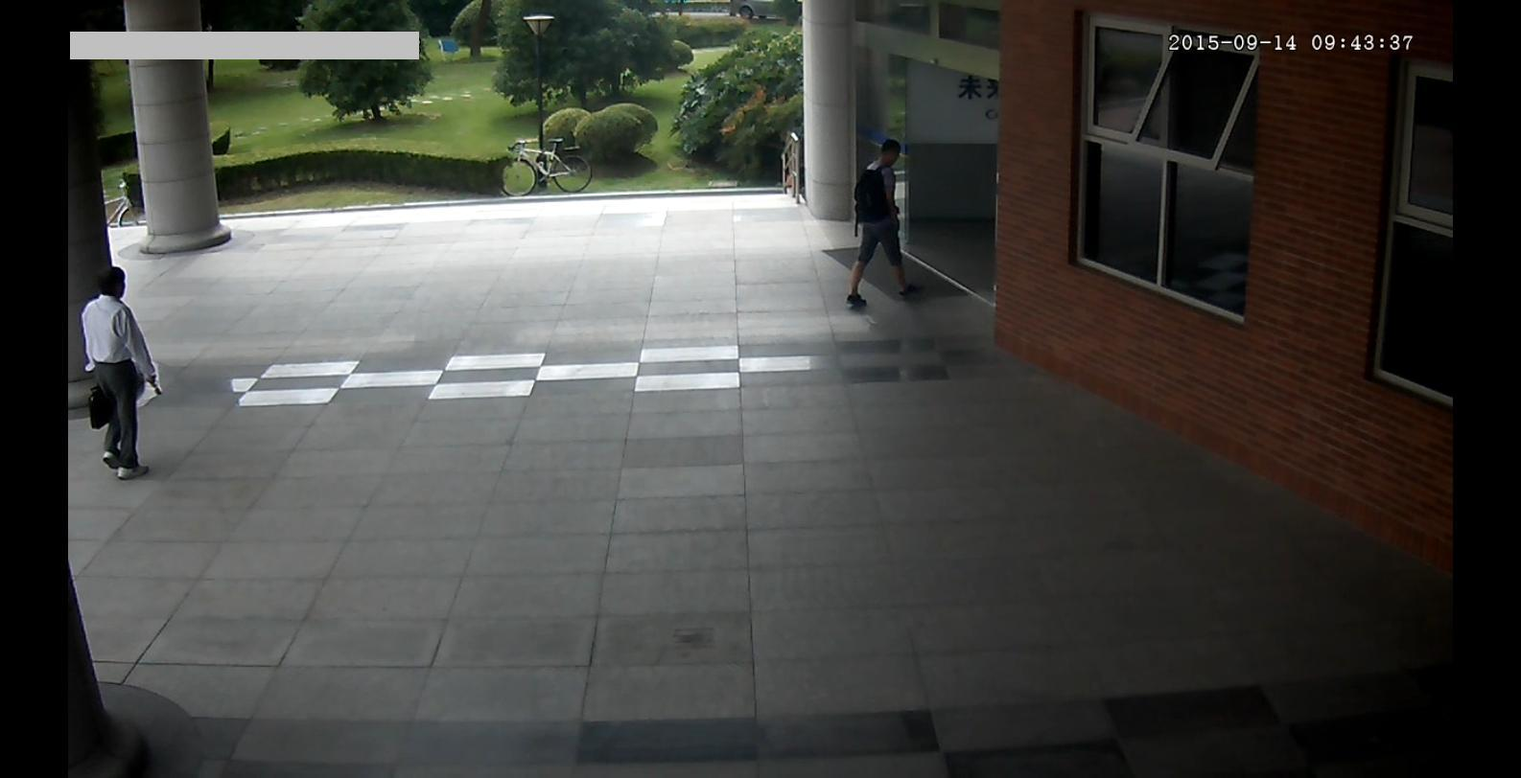person: (78, 263, 167, 485), (831, 133, 935, 315)
